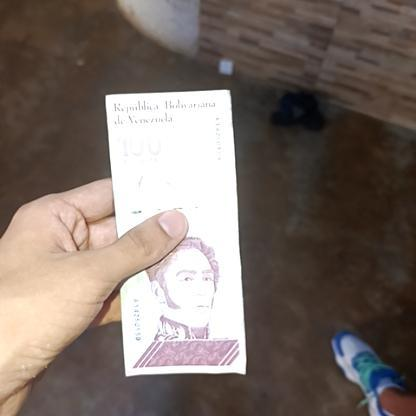one_hundred-front-vef: (104, 92, 248, 376)
